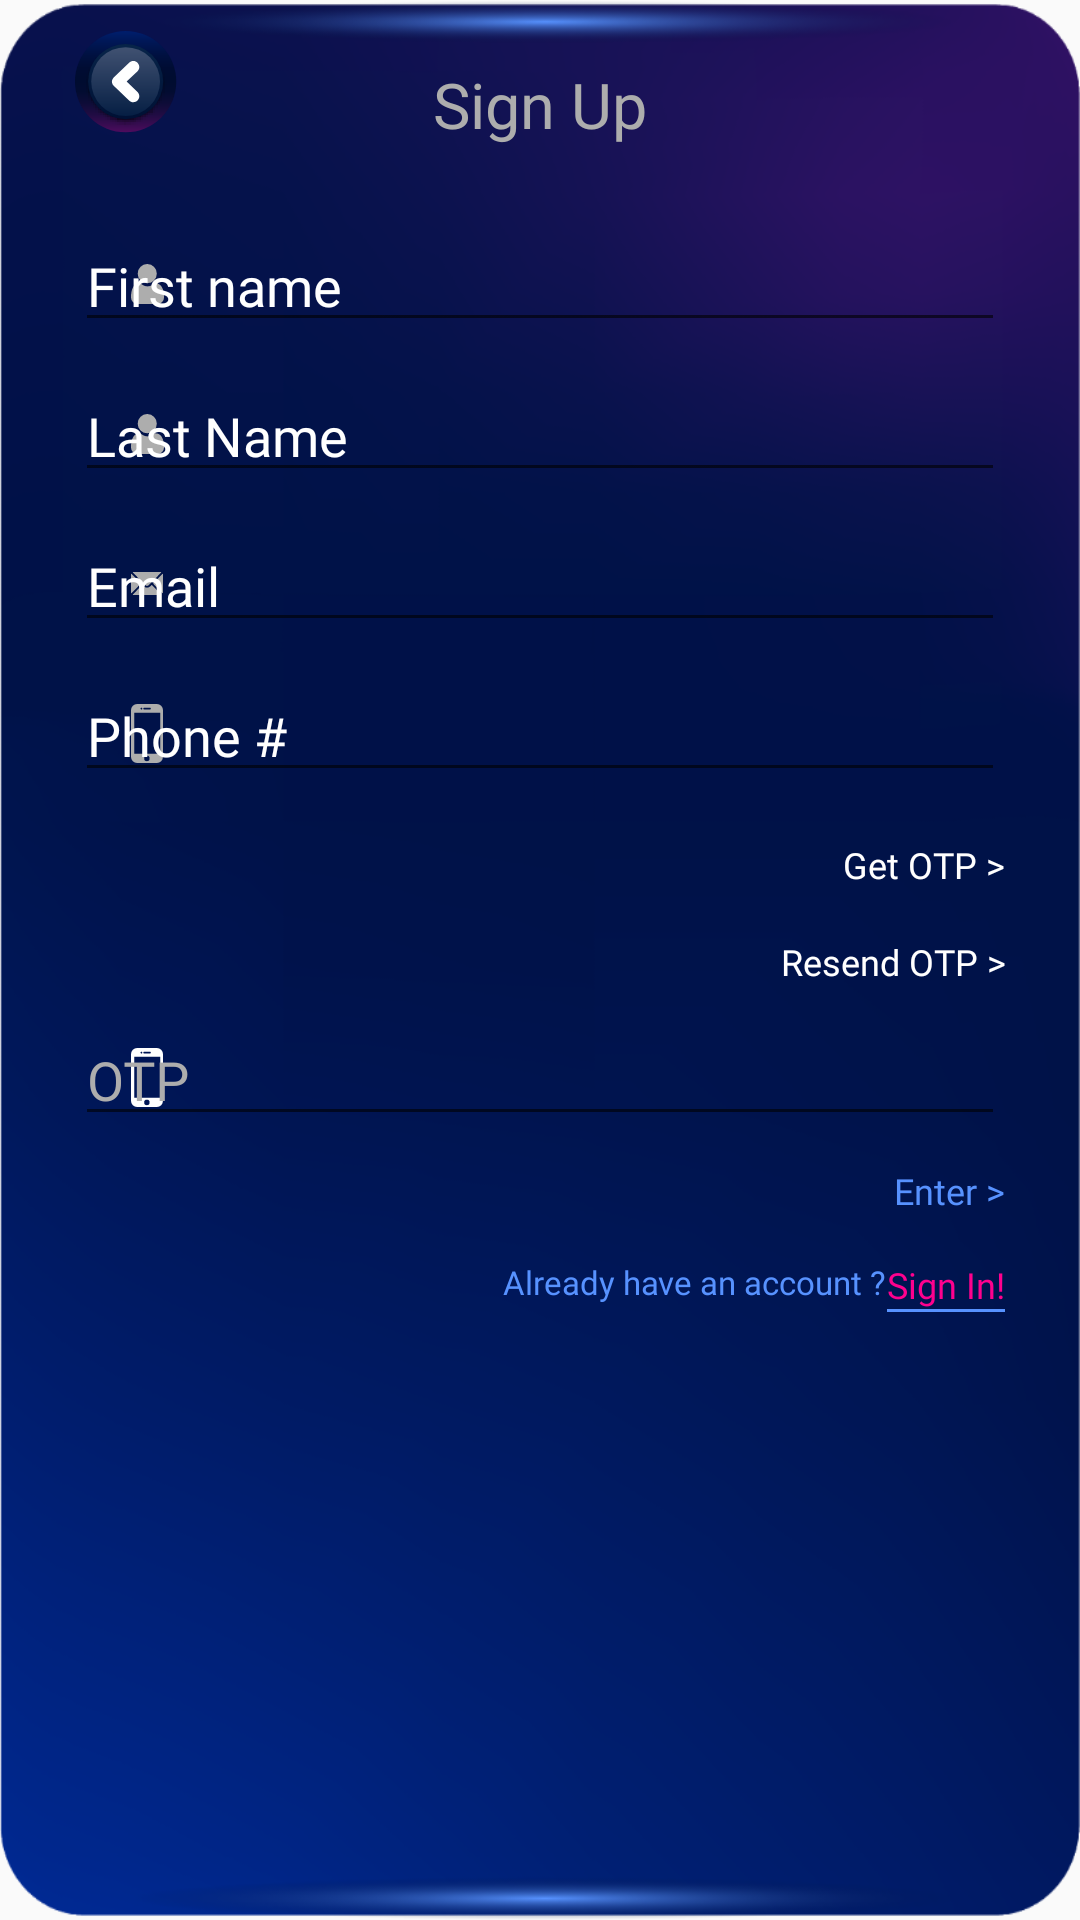

Icon bounding boxes for this 1080×1920 phone screenshot, format (x1, y1, x2, y2):
back: (75, 31, 176, 133)
